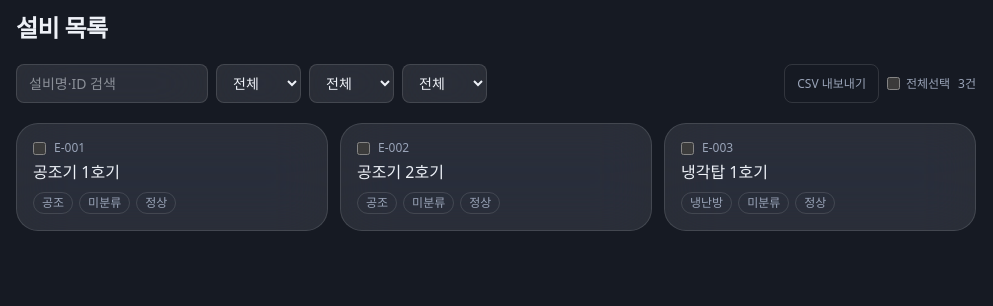
Test: EquipmentList 다중선택/일괄삭제 › 전체선택 체크 시 화면에 보이는 항목이 모두 선택된다
Click the checkbox labelled "전체선택": (893, 84) [887,77,900,90]
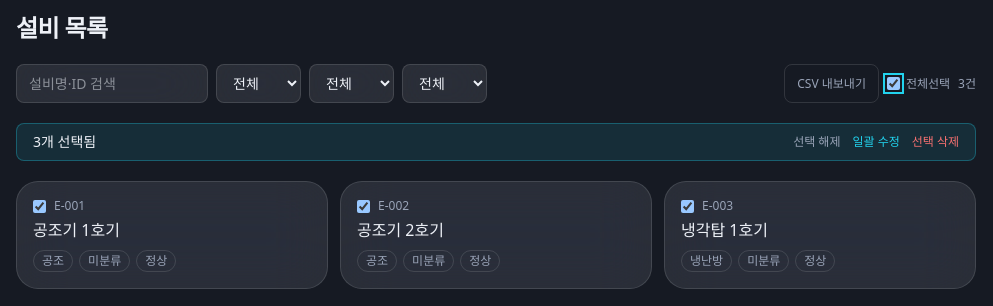
Now the text "3개 선택됨" is shown, box [33,132,96,152]
